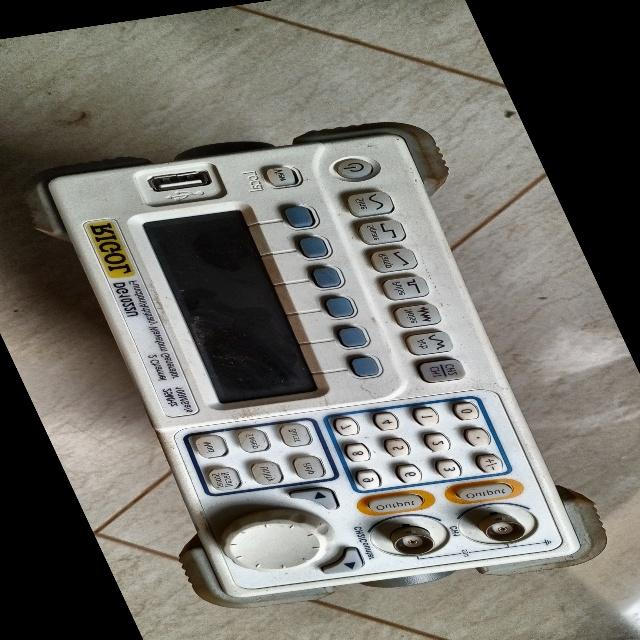Function Arbitrary Wave Form Generator 25Mhz: (0, 86, 640, 629)
